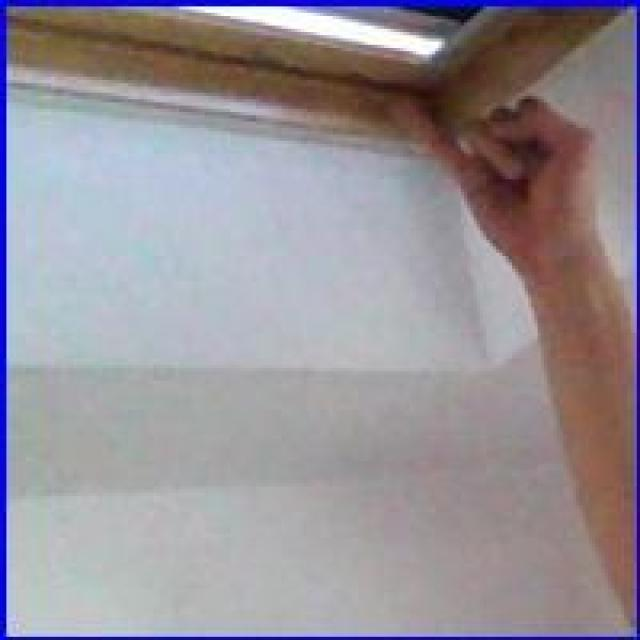J: (364, 68, 618, 262)
